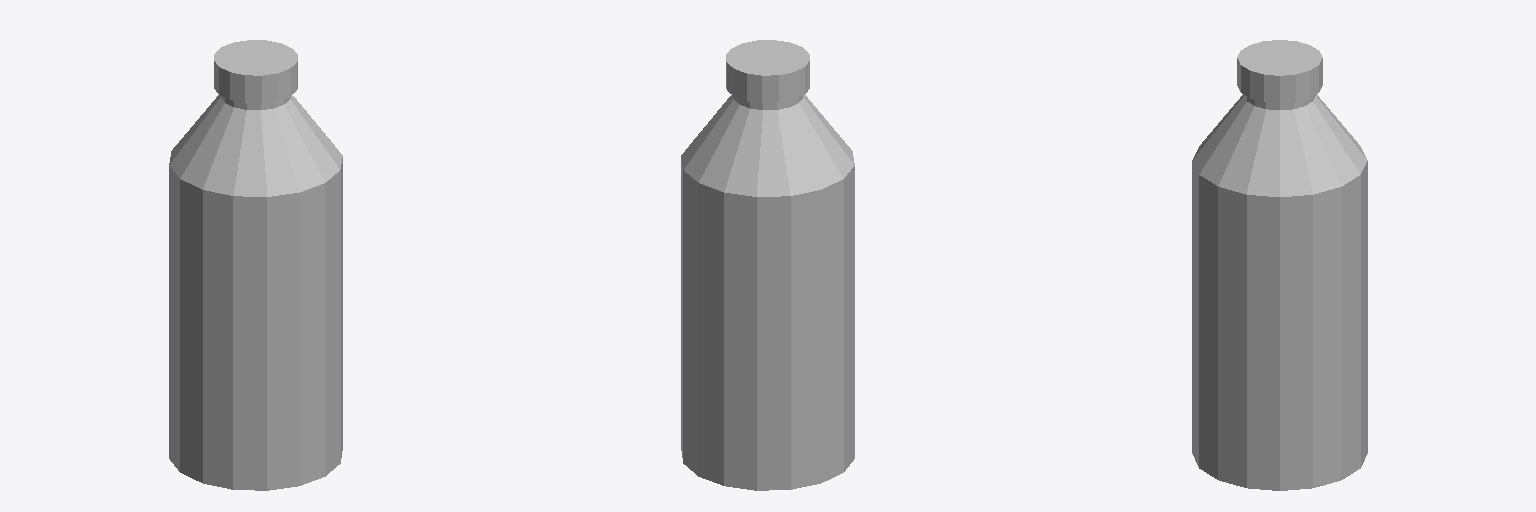
File: bottle.obj
3 renders of one model, left to right at view 1: azimuth 30°, elevation 25°; view 2: azimuth 150°, elevation 25°; view 3: azimuth 270°, elevation 25°, orthographic.
Visible parts, largest first — view 1: pCylinder2; view 2: pCylinder2; view 3: pCylinder2.
Part boxes in pixels (bbox=[...]): pCylinder2: bbox=[169, 40, 342, 490]; pCylinder2: bbox=[681, 40, 854, 490]; pCylinder2: bbox=[1192, 40, 1367, 490].
Bounding box in the file's own units: 12.26 × 30.61 × 12.26.